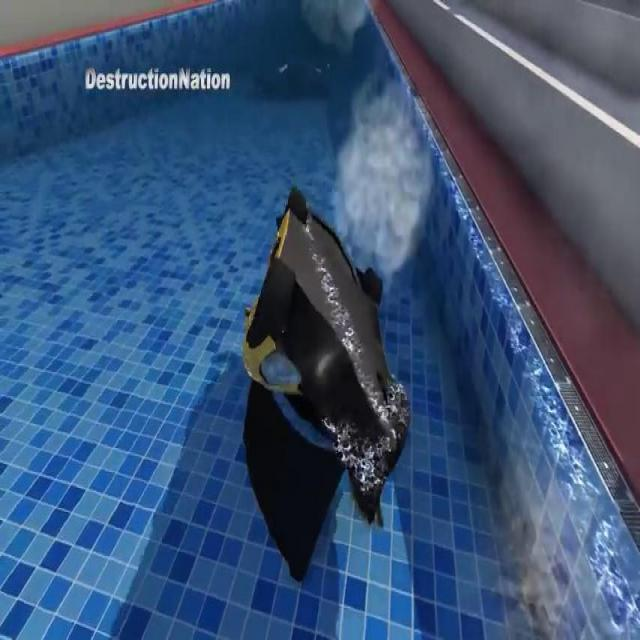accident: (238, 177, 412, 587)
